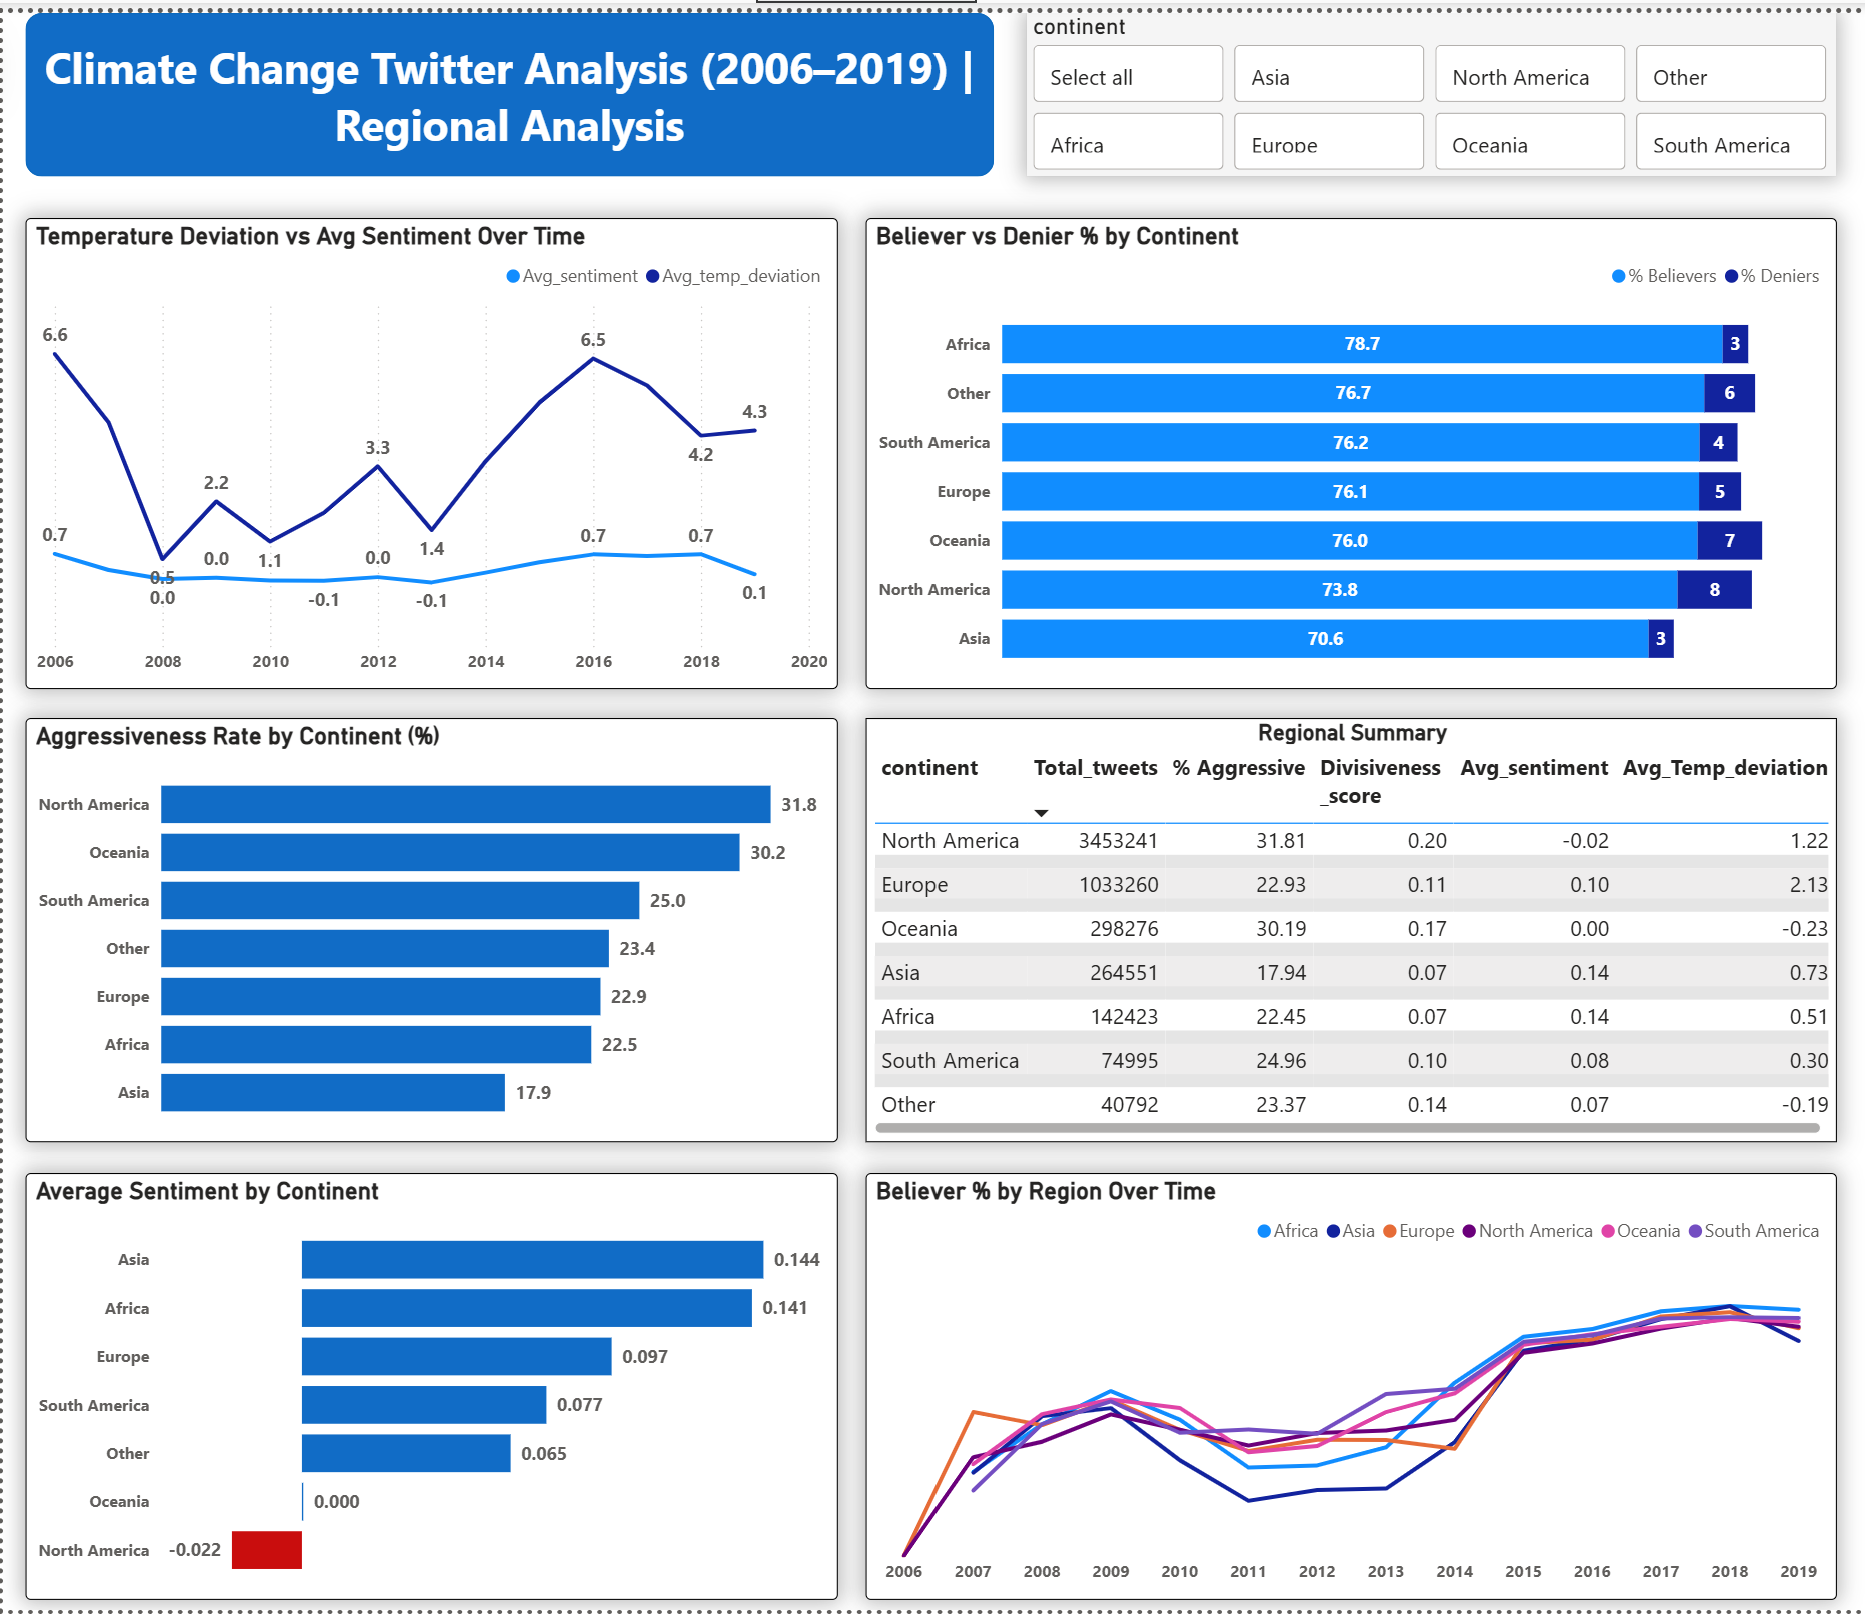

What the dashboard file says about the page in this screenshot:
{"tool":"powerbi","page":{"name":"Regional Analysis","canvas":[1400,1200],"ordinal":2},"visuals":[{"type":"clusteredBarChart","title":"Average Sentiment by Continent","fields":{"Category":["public vw_regional_analysis.continent"],"Y":["Sum(public vw_regional_analysis.avg_sentiment)"]},"box":[16.7,870.8,610.4,320.8],"z":0},{"type":"clusteredBarChart","title":"Aggressiveness Rate by Continent (%)","fields":{"Y":["Sum(public vw_regional_analysis.pct_aggressive)"],"Category":["public vw_regional_analysis.continent"]},"box":[16.7,529.2,610.4,318.8],"z":1000},{"type":"barChart","title":"Believer vs Denier % by Continent","fields":{"Category":["public vw_regional_analysis.continent"],"Y":["Sum(public vw_regional_analysis.pct_believers)","Sum(public vw_regional_analysis.pct_deniers)"]},"box":[647.9,154.2,729.2,354.2],"z":2000},{"type":"tableEx","title":"Regional Summary","fields":{"Values":["public vw_regional_analysis.continent","Sum(public vw_regional_analysis.total_tweets)","Sum(public vw_regional_analysis.pct_aggressive)","Sum(public vw_regional_analysis.divisiveness_score)","Sum(public vw_regional_analysis.avg_sentiment)","Sum(public vw_regional_analysis.avg_temp_deviation)"]},"box":[647.9,529.2,729.2,318.8],"z":3000},{"type":"shape","box":[16.7,0,727.1,122.9],"z":4000},{"type":"lineChart","title":"Believer % by Region Over Time","fields":{"Y":["Sum(public vw_stance_by_region.pct_believers)"],"Category":["public vw_stance_by_region.tweet_year"],"Series":["public vw_stance_by_region.continent"]},"box":[647.9,870.8,729.2,320.8],"z":5000},{"type":"lineChart","title":"Temperature Deviation vs Avg Sentiment Over Time","fields":{"Category":["public vw_temp_sentiment.tweet_year"],"Y":["Sum(public vw_temp_sentiment.avg_sentiment)","Sum(public vw_temp_sentiment.avg_temp_deviation)"]},"box":[16.7,154.2,610.4,354.2],"z":6000},{"type":"advancedSlicerVisual","fields":{"Values":["public vw_regional_analysis.continent"]},"box":[768.8,0,608.3,122.9],"z":7000}]}

Visuals, with their boxes in screenshot pixels (x1, y1, x2, y2), scaled from the page's 1400x1200 canvas onto the 1865x1617 screenshot:
"Average Sentiment by Continent" clusteredBarChart: crop(22, 1173, 835, 1606)
"Aggressiveness Rate by Continent (%)" clusteredBarChart: crop(22, 713, 835, 1143)
"Believer vs Denier % by Continent" barChart: crop(863, 208, 1834, 685)
"Regional Summary" tableEx: crop(863, 713, 1834, 1143)
shape: crop(22, 0, 991, 166)
"Believer % by Region Over Time" lineChart: crop(863, 1173, 1834, 1606)
"Temperature Deviation vs Avg Sentiment Over Time" lineChart: crop(22, 208, 835, 685)
advancedSlicerVisual - public vw_regional_analysis.continent: crop(1024, 0, 1834, 166)
